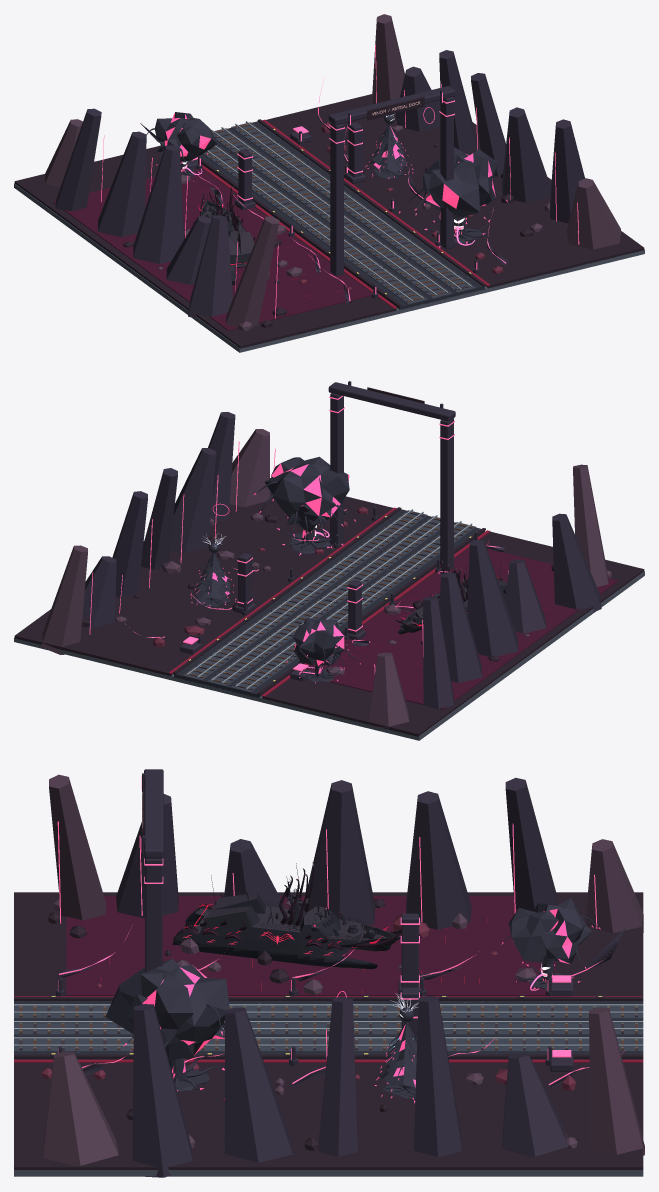
Rendered from 02_Venom_Abyssal_Dock.glb.
The picture shows the model from 3 angles, top to bottom: view 1: azimuth 30°, elevation 25°; view 2: azimuth 150°, elevation 25°; view 3: azimuth 270°, elevation 25°; orthographic projection. The views are drawn at different scales.
Parts seen in each view (by area): view 1: 02_Venom_Abyssal_Dock · iron, 02_Venom_Abyssal_Dock · coal, 02_Venom_Abyssal_Dock · water, 02_Venom_Abyssal_Dock · ash, 02_Venom_Abyssal_Dock · stone, District_Gate, 02_Venom_Abyssal_Dock · ballast, Venom tree surface 04.001.export, 02_Venom_Abyssal_Dock · dirt, 02_Venom_Abyssal_Dock · tie, 02_Venom_Abyssal_Dock · steel, Venom tree surface 04.002.export (+8 smaller); view 2: 02_Venom_Abyssal_Dock · iron, 02_Venom_Abyssal_Dock · coal, 02_Venom_Abyssal_Dock · ash, 02_Venom_Abyssal_Dock · water, 02_Venom_Abyssal_Dock · stone, District_Gate, 02_Venom_Abyssal_Dock · ballast, Venom tree surface 04.001.export, 02_Venom_Abyssal_Dock · tie, 02_Venom_Abyssal_Dock · dirt, 02_Venom_Abyssal_Dock · steel, Venom tree surface 04.002.export (+7 smaller); view 3: 02_Venom_Abyssal_Dock · iron, 02_Venom_Abyssal_Dock · coal, 02_Venom_Abyssal_Dock · water, 02_Venom_Abyssal_Dock · ash, 02_Venom_Abyssal_Dock · stone, Venom tree surface 04.001.export, Abyssal Crown surface 06.export, 02_Venom_Abyssal_Dock · ballast, 02_Venom_Abyssal_Dock · steelweb, 02_Venom_Abyssal_Dock · steel, 02_Venom_Abyssal_Dock · dirt, Venom tree surface 04.002.export (+11 smaller).
Boxes of the visible parts, bbox=[...] form: 02_Venom_Abyssal_Dock · iron: bbox=[55, 50, 584, 318]; 02_Venom_Abyssal_Dock · coal: bbox=[14, 94, 644, 348]; 02_Venom_Abyssal_Dock · water: bbox=[53, 168, 371, 330]; 02_Venom_Abyssal_Dock · ash: bbox=[45, 14, 621, 330]; 02_Venom_Abyssal_Dock · stone: bbox=[203, 122, 476, 304]; District_Gate: bbox=[328, 86, 455, 275]; 02_Venom_Abyssal_Dock · ballast: bbox=[200, 121, 484, 309]; Venom tree surface 04.001.export: bbox=[400, 147, 506, 246]; 02_Venom_Abyssal_Dock · dirt: bbox=[14, 183, 644, 352]; 02_Venom_Abyssal_Dock · tie: bbox=[205, 123, 468, 302]; 02_Venom_Abyssal_Dock · steel: bbox=[207, 121, 472, 300]; Venom tree surface 04.002.export: bbox=[146, 112, 217, 180]; 02_Venom_Abyssal_Dock · iron: bbox=[82, 412, 601, 709]; 02_Venom_Abyssal_Dock · coal: bbox=[14, 478, 644, 736]; 02_Venom_Abyssal_Dock · ash: bbox=[41, 429, 611, 728]; 02_Venom_Abyssal_Dock · water: bbox=[305, 548, 618, 709]; 02_Venom_Abyssal_Dock · stone: bbox=[182, 510, 476, 692]; District_Gate: bbox=[328, 381, 455, 571]; 02_Venom_Abyssal_Dock · ballast: bbox=[174, 509, 484, 698]; Venom tree surface 04.001.export: bbox=[256, 456, 354, 553]; 02_Venom_Abyssal_Dock · tie: bbox=[185, 514, 473, 686]; 02_Venom_Abyssal_Dock · dirt: bbox=[14, 571, 644, 740]; 02_Venom_Abyssal_Dock · steel: bbox=[186, 509, 471, 688]; Venom tree surface 04.002.export: bbox=[288, 618, 359, 682]; 02_Venom_Abyssal_Dock · iron: bbox=[50, 777, 626, 1177]; 02_Venom_Abyssal_Dock · coal: bbox=[14, 892, 643, 1170]; 02_Venom_Abyssal_Dock · water: bbox=[66, 896, 555, 995]; 02_Venom_Abyssal_Dock · ash: bbox=[43, 774, 644, 1165]; 02_Venom_Abyssal_Dock · stone: bbox=[14, 1002, 643, 1054]; Venom tree surface 04.001.export: bbox=[105, 958, 229, 1091]; Abyssal Crown surface 06.export: bbox=[173, 863, 400, 965]; 02_Venom_Abyssal_Dock · ballast: bbox=[14, 1001, 643, 1059]; 02_Venom_Abyssal_Dock · steelweb: bbox=[14, 1005, 643, 1046]; 02_Venom_Abyssal_Dock · steel: bbox=[14, 1004, 643, 1045]; 02_Venom_Abyssal_Dock · dirt: bbox=[14, 1170, 643, 1176]; Venom tree surface 04.002.export: bbox=[503, 898, 598, 989].
Size of the model in its own units: 56.97 by 23.14 by 54.13.
